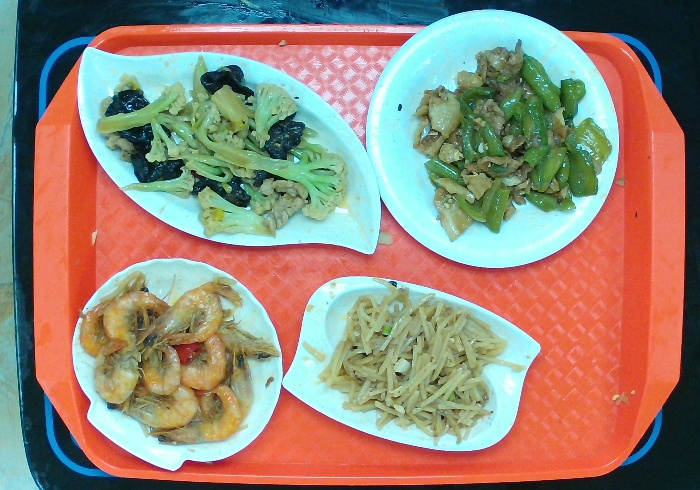RJxy-Bei_Ke_Wan: (68, 255, 288, 474)
RJxy-Jian_Jiao_Fang_Die: (279, 272, 547, 455)
RJxy-Jian_Jiao_Pan: (76, 42, 383, 260)
RJxy-Yuan_Pan: (360, 7, 624, 273)
